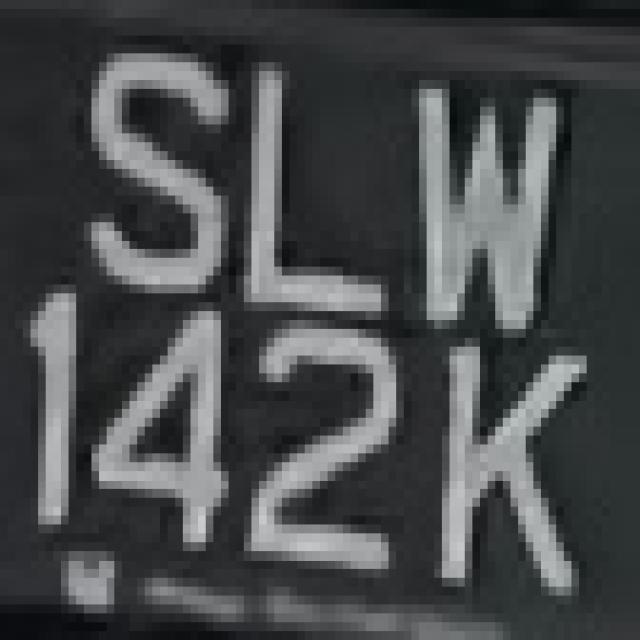1: (30, 276, 114, 551)
2: (244, 293, 411, 569)
4: (84, 276, 251, 551)
K: (419, 338, 579, 631)
L: (214, 71, 396, 320)
S: (61, 0, 221, 293)
W: (396, 62, 564, 329)
